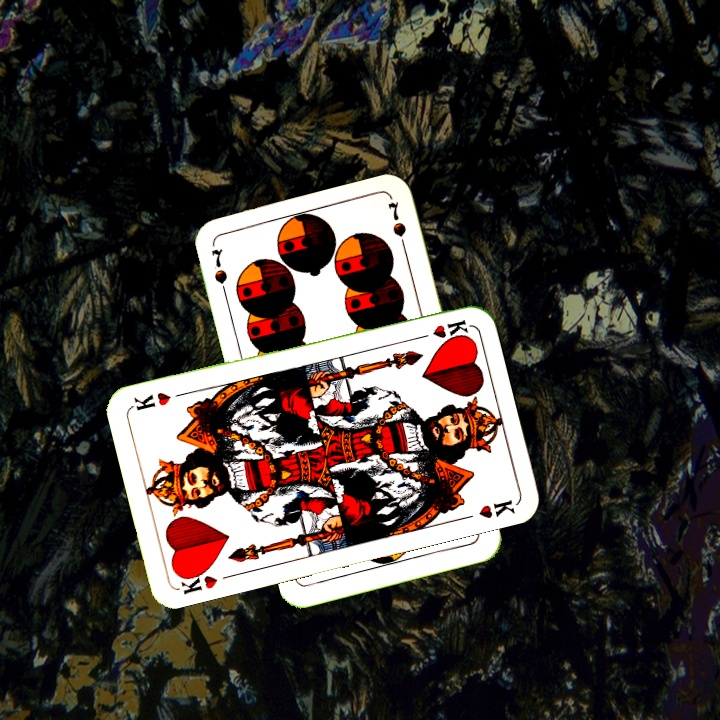HK: (412, 315, 471, 343), (173, 564, 220, 597)
S7: (207, 244, 231, 302)
